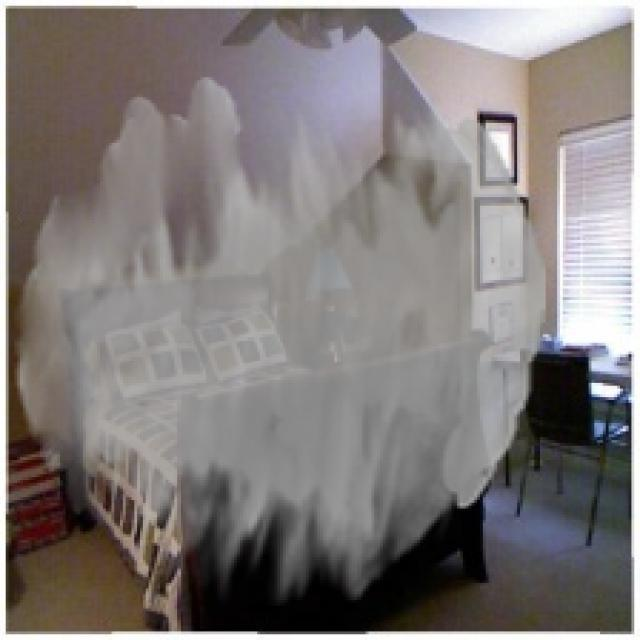Smoke: (14, 77, 546, 606)
